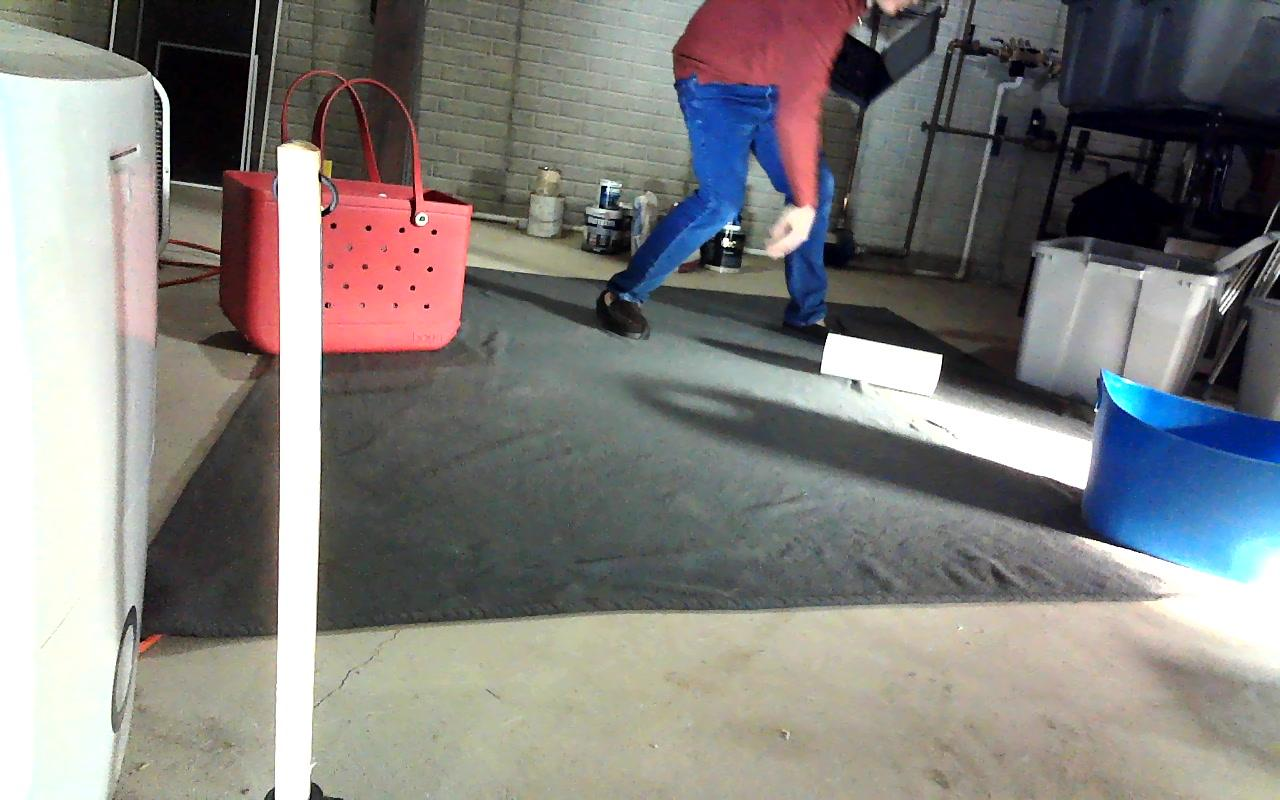coral: (820, 332, 940, 395)
